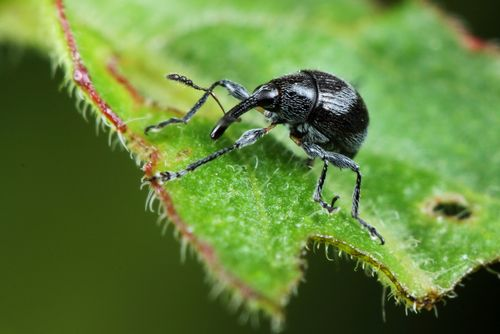Curculionidae: (143, 67, 386, 246)
